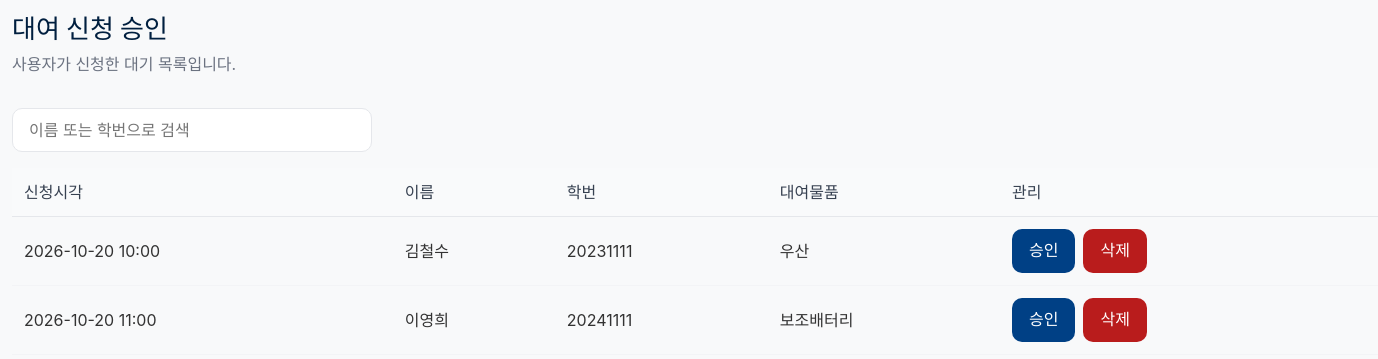
AdminApprovePage › search filter kept
In the field with placeholder "이름 또는 학번으로 검색": coordinates (192, 130) left=12, top=108, right=372, bottom=152, type "2024"
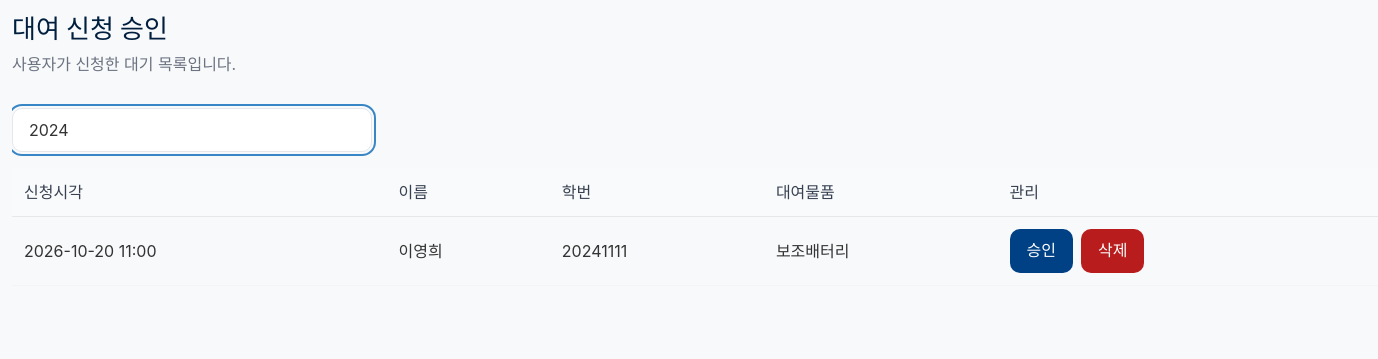
Expected: the text "이영희" is shown, left=387, top=216, right=550, bottom=286
Result: the text "김철수" is not shown
